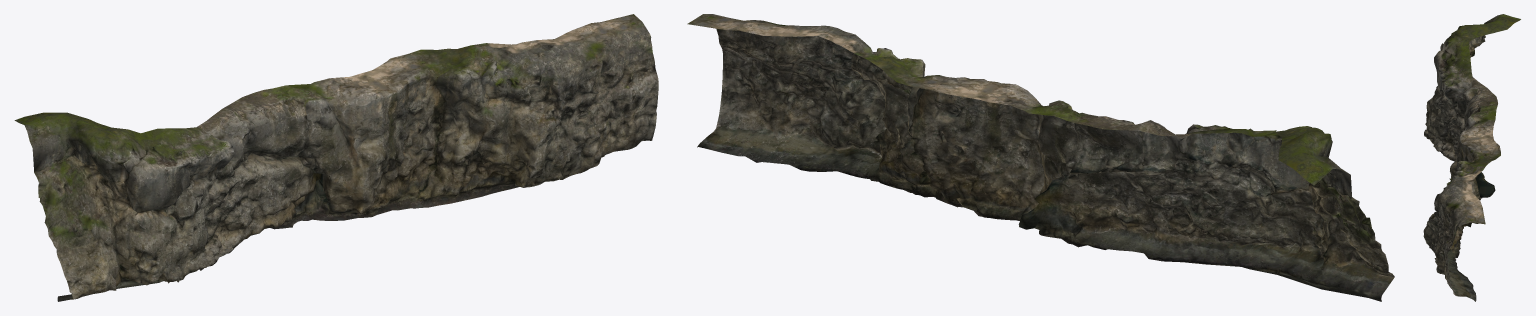
Rendered from cliff.glb.
The picture shows the model from 3 angles, left to right: view 1: azimuth 30°, elevation 25°; view 2: azimuth 150°, elevation 25°; view 3: azimuth 270°, elevation 25°; orthographic projection. The views are drawn at different scales.
Visible parts, largest first — view 1: coastal_cliff_02_LOD0; view 2: coastal_cliff_02_LOD0; view 3: coastal_cliff_02_LOD0.
Boxes of the visible parts, <box> form: coastal_cliff_02_LOD0: <box>14,14,658,301</box>; coastal_cliff_02_LOD0: <box>687,14,1394,301</box>; coastal_cliff_02_LOD0: <box>1423,14,1520,301</box>.
Size of the model in its own units: 40.93 by 10.03 by 8.63.
Materials: 1 (1 with a texture image).
